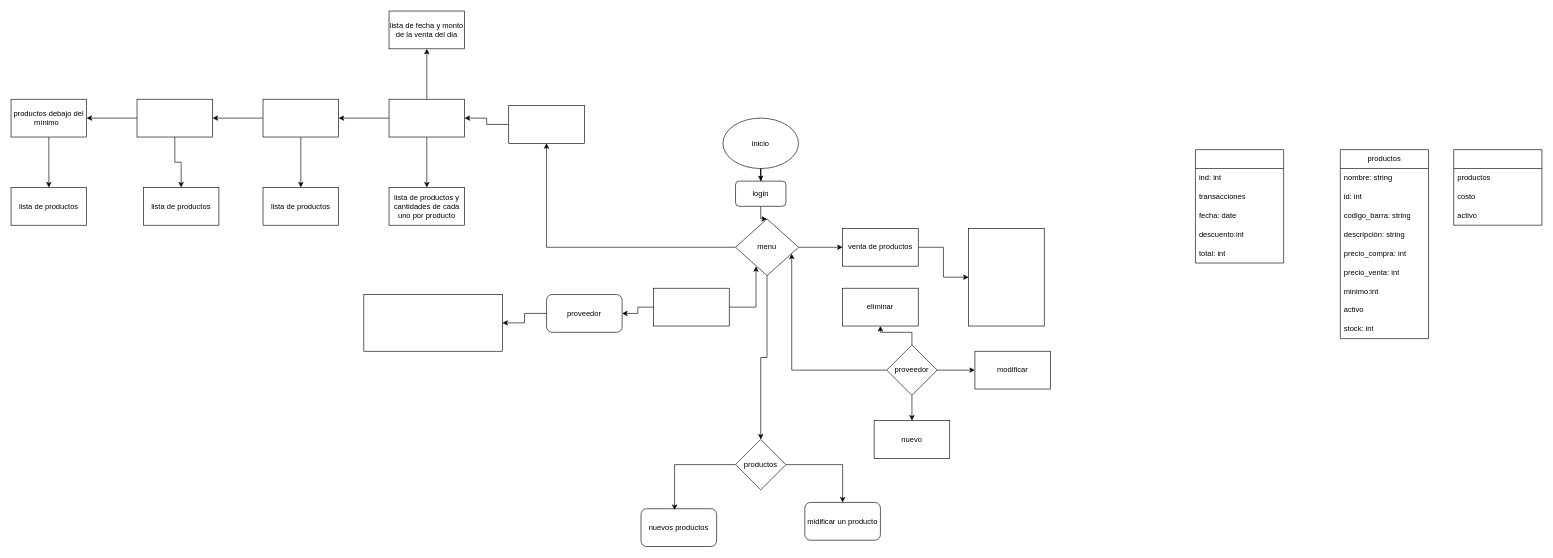
Image size: 1553x558. Some labels were removed from this diagram. Here are the shapes that lost their labels. From the top down, the box of each, then its label:
(136, 99, 213, 137): menos se han vendidos
(262, 99, 339, 137): productos mas vendidos
(388, 99, 465, 137): ventas por fecha
(508, 105, 584, 143): consultas
(1195, 149, 1284, 263): venta
(1453, 149, 1542, 225): prveedor
(968, 228, 1044, 326): buscar productos fecha descuento total
(363, 294, 502, 351): nombre productos y cantidad numero de factura fecha proveedor
(653, 288, 729, 326): compras
